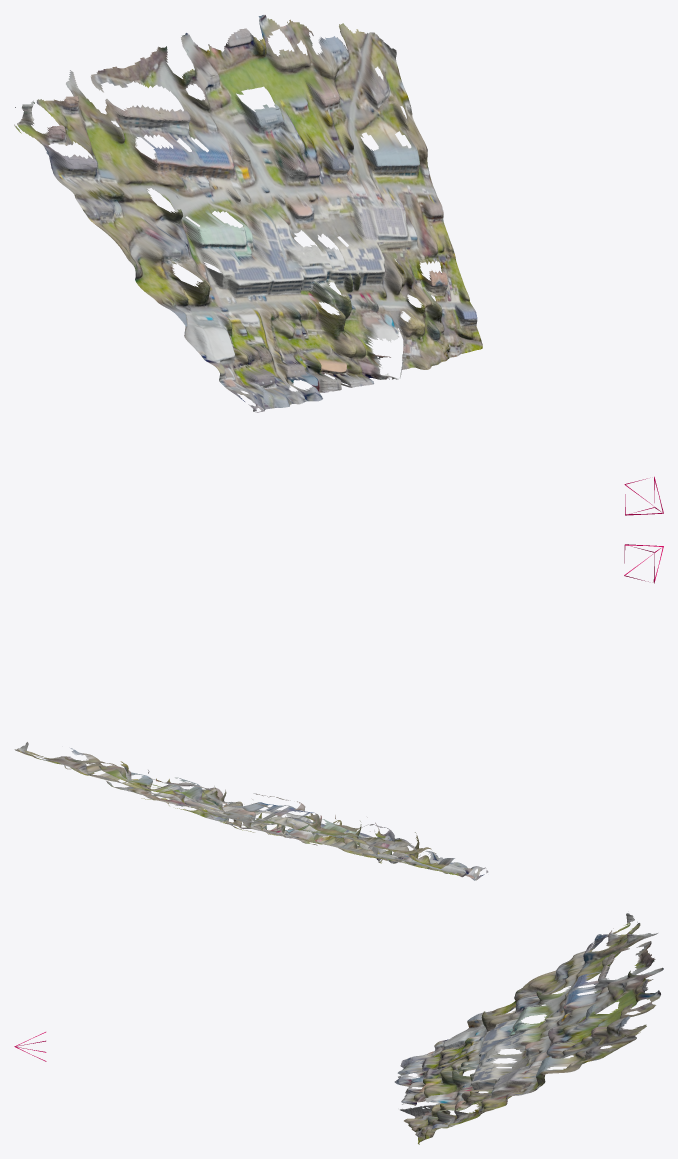
Rendered from glbscene_All_camTrue_meshTrue (2).glb.
The picture shows the model from 3 angles, top to bottom: view 1: azimuth 30°, elevation 25°; view 2: azimuth 150°, elevation 25°; view 3: azimuth 270°, elevation 25°; orthographic projection. The views are drawn at different scales.
Visible parts, largest first — view 1: world; view 2: world; view 3: world.
Boxes of the visible parts, x1,y1,x2,y2 form: world: (14, 15, 663, 515); world: (14, 544, 663, 880); world: (14, 913, 663, 1144).
Size of the model in its own units: 0.5482 by 0.3 by 1.25.
